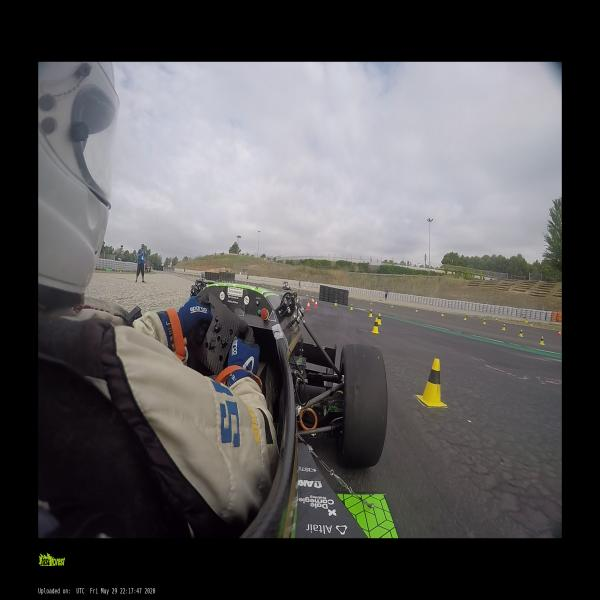orange_cone: (306, 300, 310, 311), (314, 300, 318, 308), (311, 298, 315, 306), (557, 330, 561, 337), (495, 317, 498, 322), (466, 312, 469, 317), (530, 323, 532, 328)
yellow_cone: (416, 358, 447, 407), (371, 318, 379, 334), (376, 313, 382, 326), (538, 336, 545, 345), (518, 330, 524, 337), (501, 324, 506, 331), (368, 309, 372, 317), (482, 318, 486, 325), (350, 303, 353, 310), (440, 311, 444, 316), (334, 300, 337, 306), (463, 315, 466, 320), (415, 307, 418, 312), (525, 317, 527, 323), (391, 303, 393, 308), (370, 300, 372, 305), (311, 296, 313, 300)
